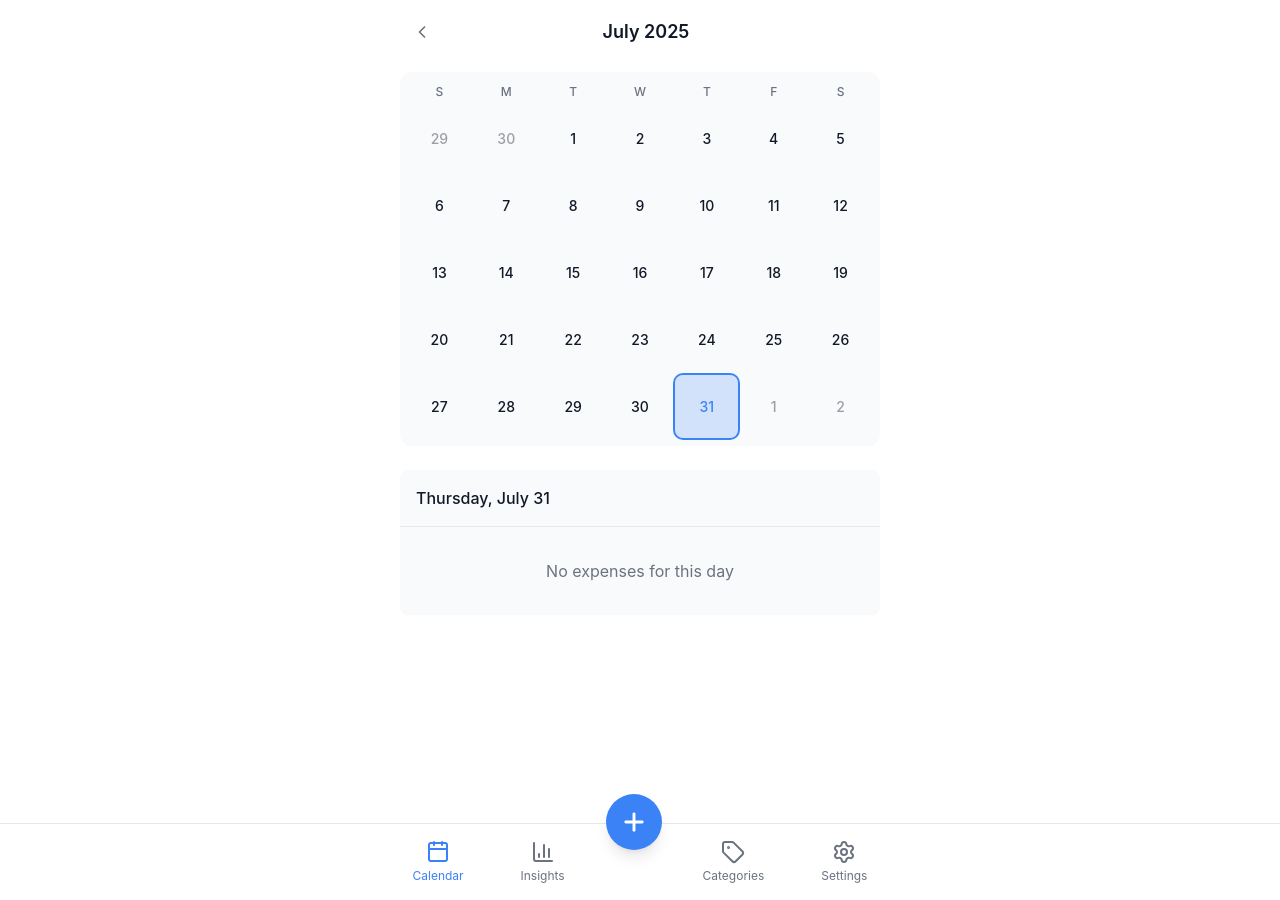
Test: CalendarPage › month navigation › navigates to previous month
Click the button named "Previous month" at [422, 32], box [400,16,444,48]
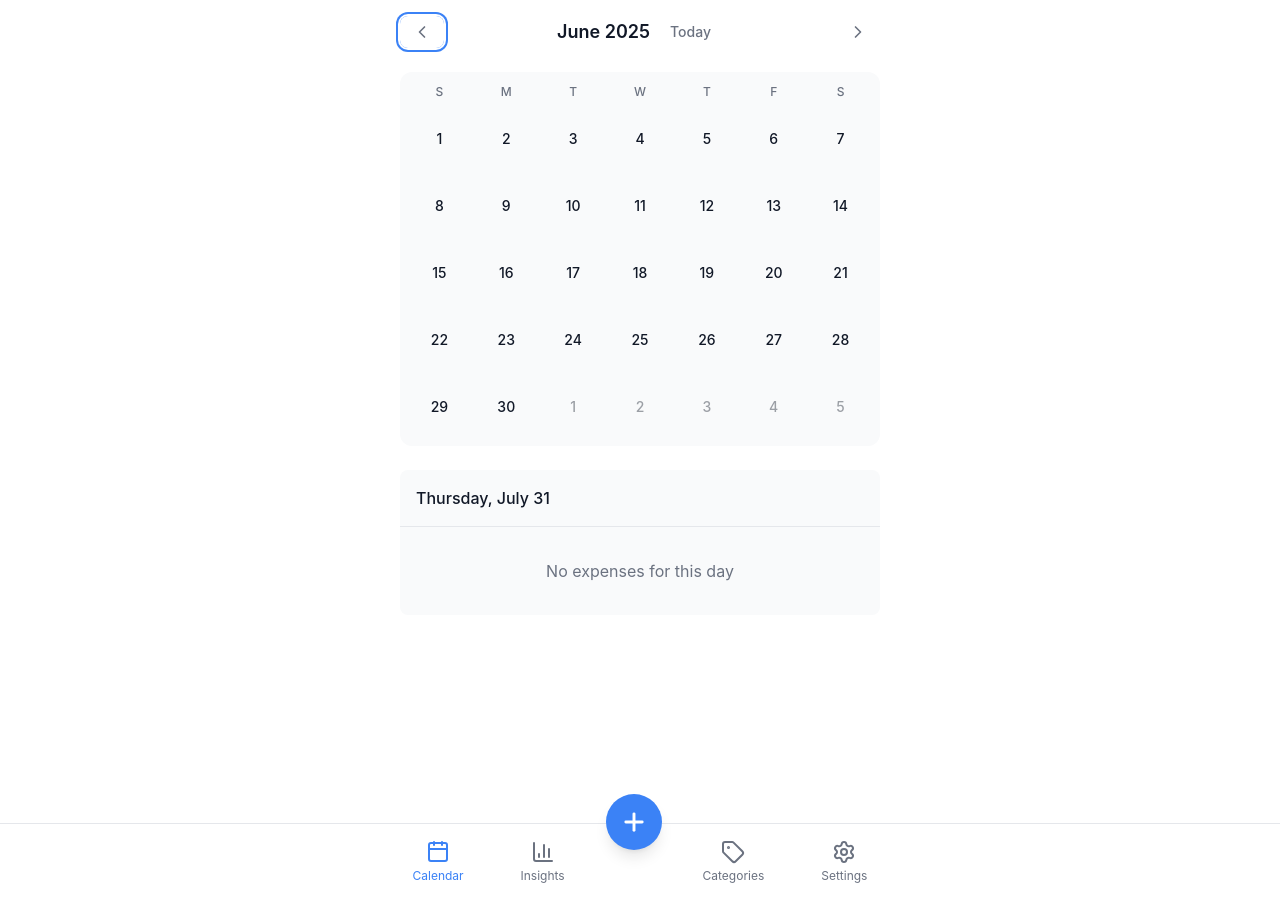
expect the text "June 2025" is shown: met, box [557,18,650,46]
